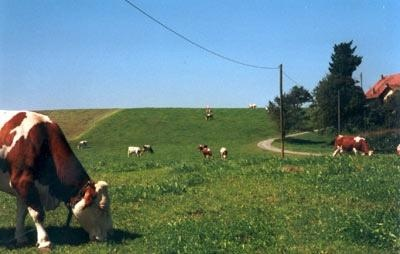cow: (1, 111, 115, 251), (332, 133, 375, 156)
